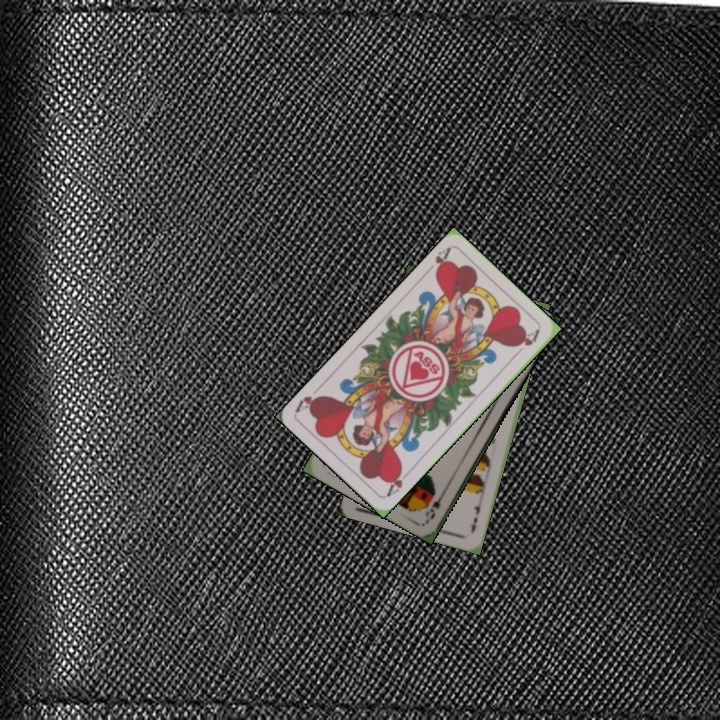E7: (467, 496, 485, 536)
HA: (382, 464, 414, 500), (431, 244, 453, 278)
SO: (421, 486, 448, 524)
